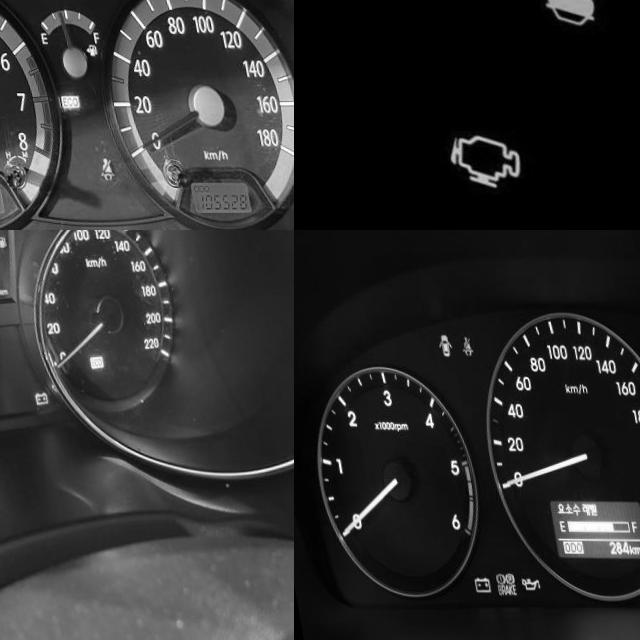Doors: (427, 333, 445, 357)
